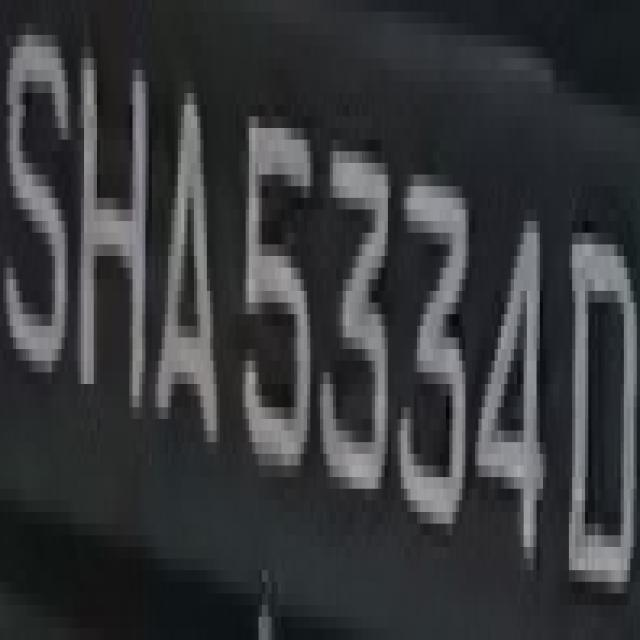3: (388, 151, 475, 559), (320, 104, 388, 524)
4: (472, 174, 549, 582)
5: (236, 35, 323, 524)
A: (152, 35, 223, 547)
D: (562, 186, 634, 617)
H: (74, 35, 152, 407)
S: (9, 0, 71, 407)
